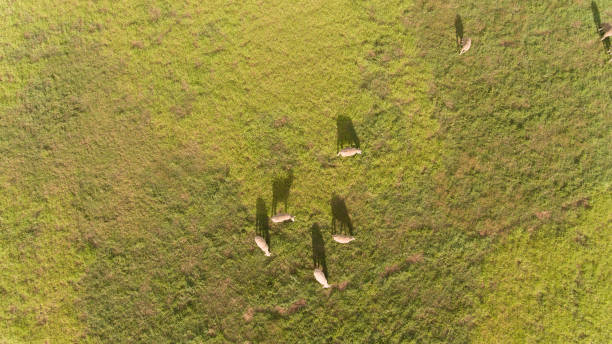sheep: (455, 33, 477, 63), (254, 233, 277, 259), (311, 267, 334, 289), (334, 144, 367, 159), (268, 214, 303, 227), (333, 232, 356, 244)
